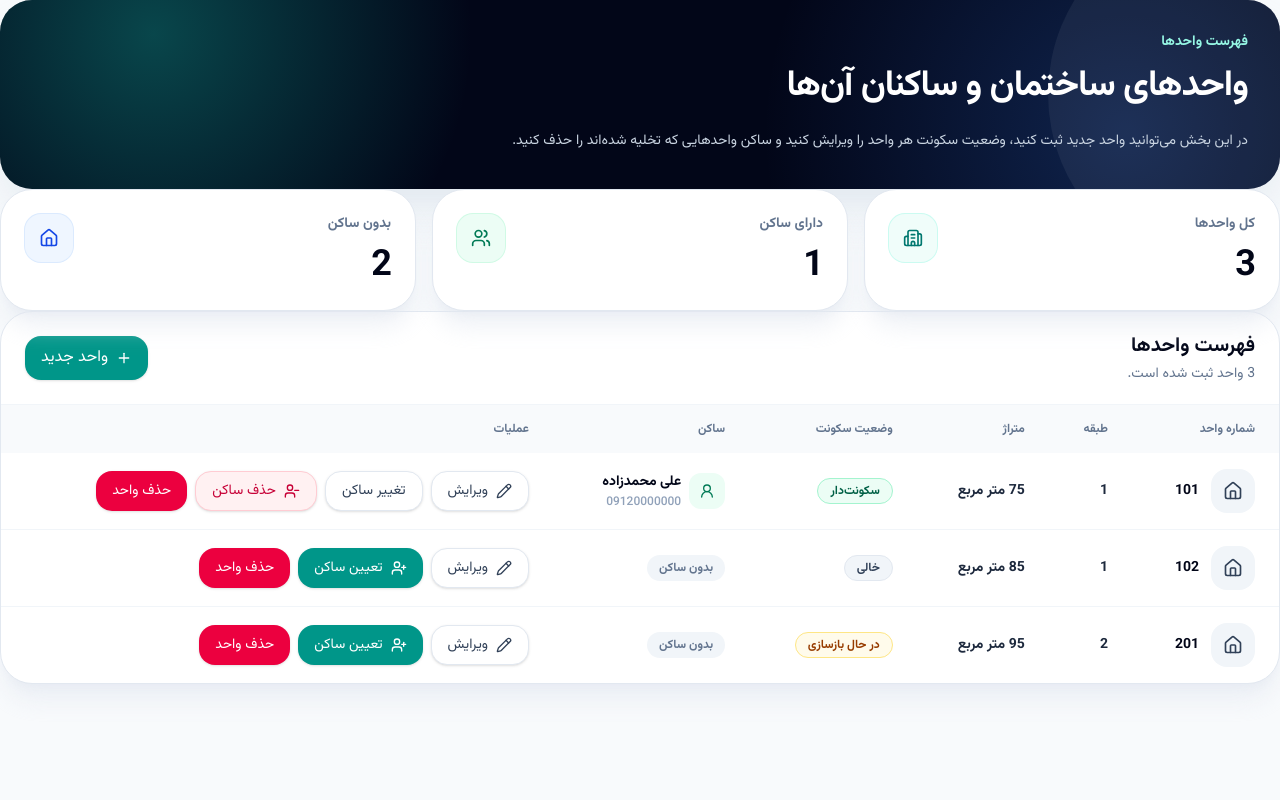
UnitsSection › edits the occupancy status through the modal and updates the row
Click the button with aria-label "ویرایش واحد 101": click(480, 491) [430, 471, 529, 511]
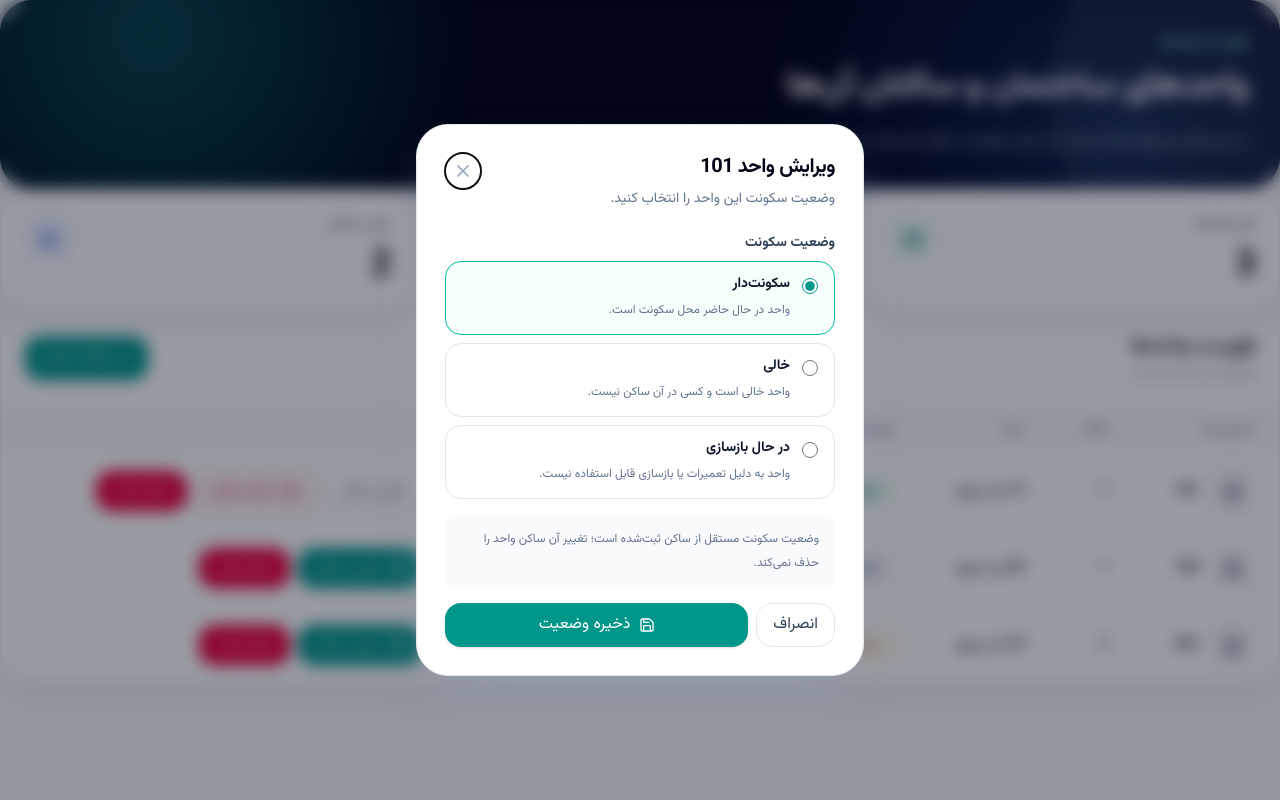
Now the radio button labelled "سکونت‌دار واحد در حال حاضر محل سکونت است." is checked, box [802, 278, 818, 294]
Click the radio button labelled "در حال بازسازی": click(810, 450) [802, 442, 818, 458]
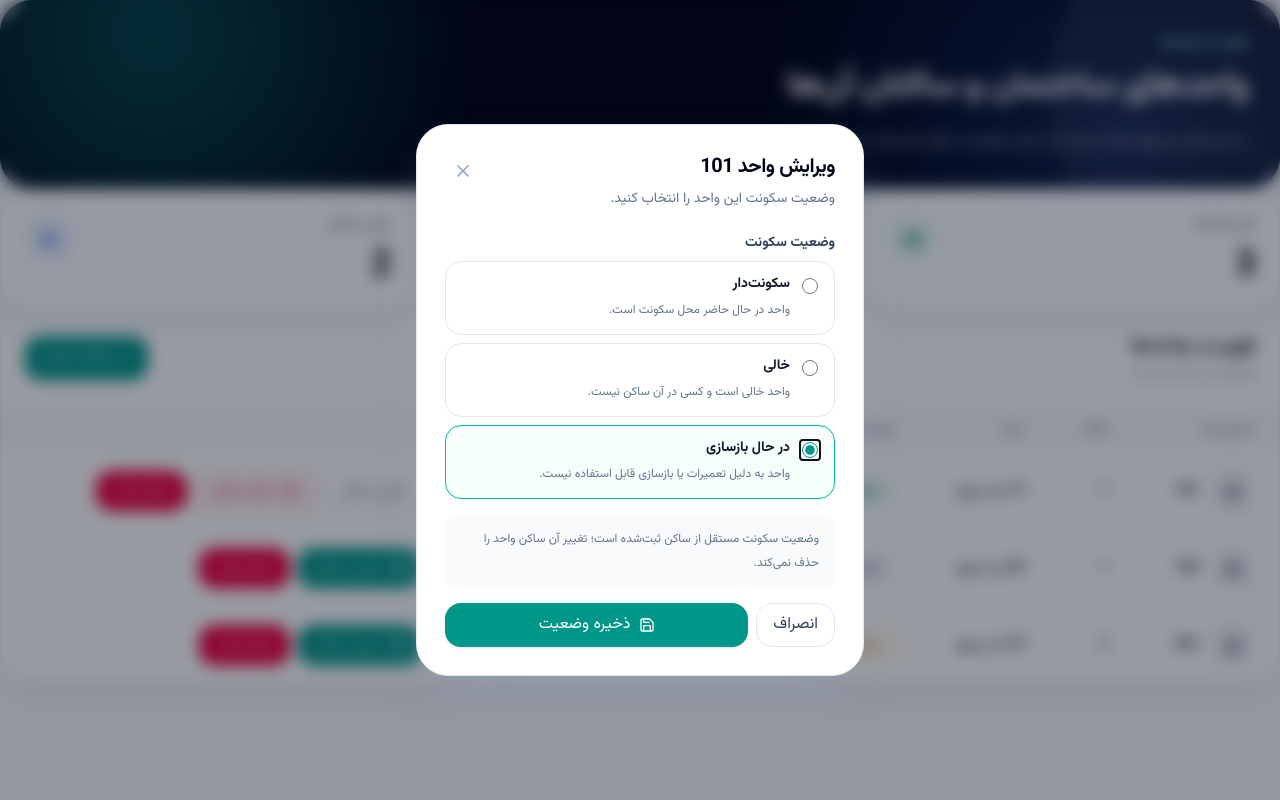
Click the button "ذخیره وضعیت": click(597, 625) [445, 603, 748, 647]
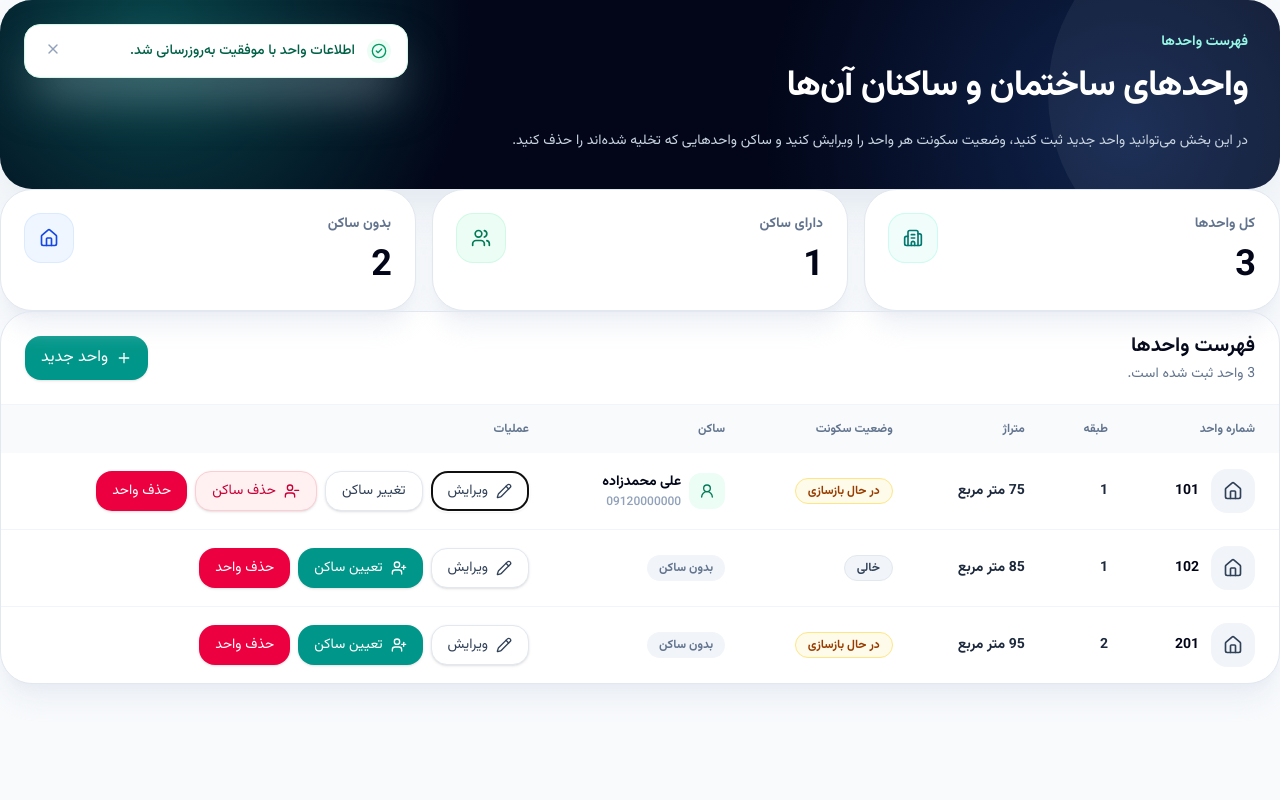
Now the text "اطلاعات واحد با موفقیت به‌روزرسانی شد." is shown, box [130, 40, 355, 62]
Now the dialog is gone
Now the text "در حال بازسازی" in the row of "101" is shown, box [808, 482, 880, 500]
